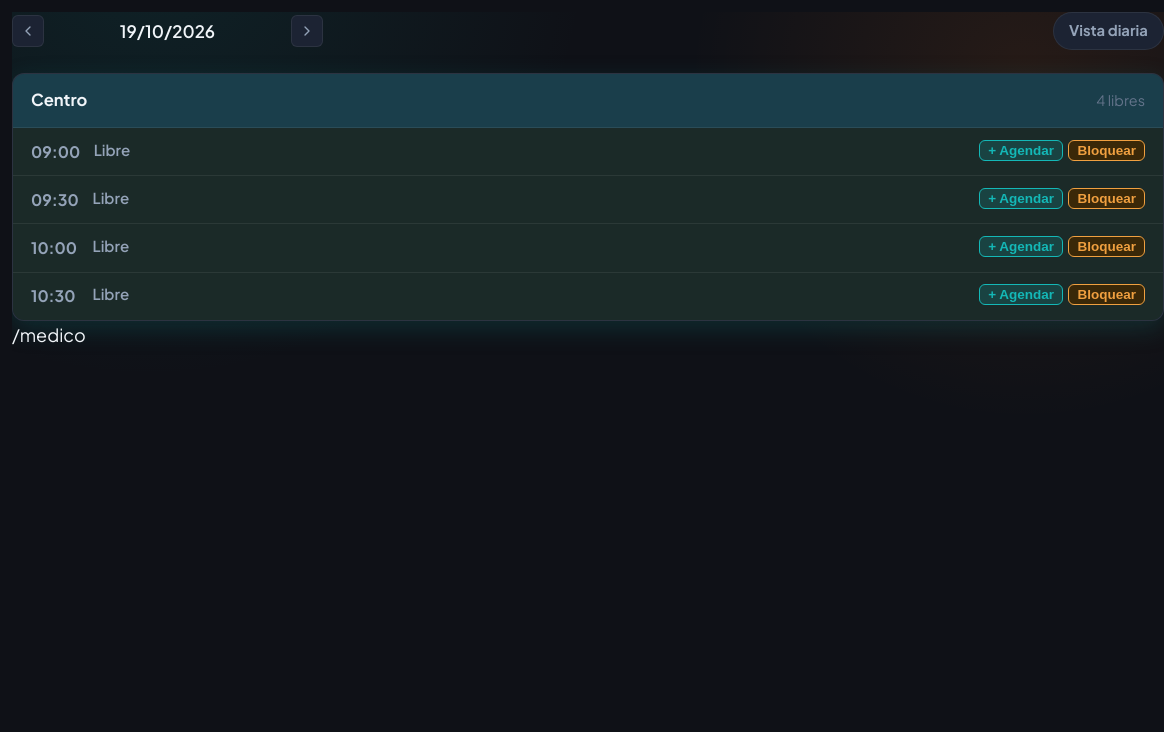
AgendaTab › agenda un turno buscando al paciente
The width and height of the screenshot is (1164, 732).
Expected: the text "Centro" is shown, [31,87,87,114]
Click the button "+ Agendar" in the row of "10:00": (1021,246) [979,236,1063,257]
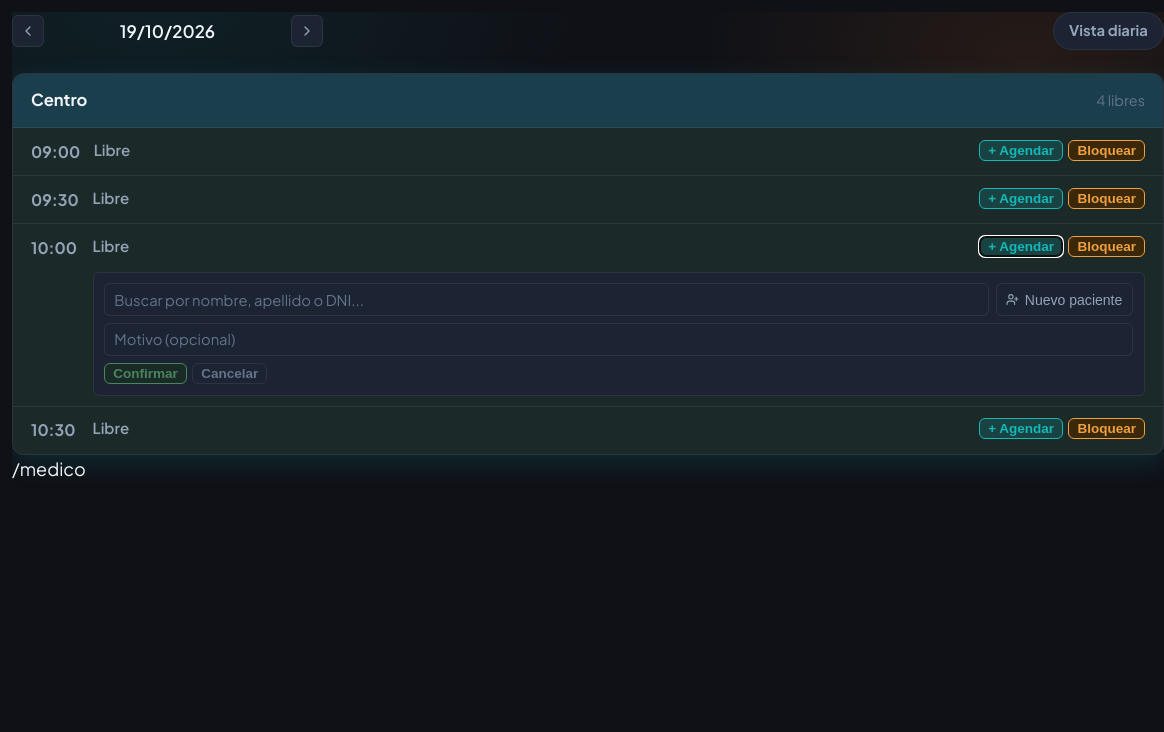
In the field with placeholder "Buscar por nombre, apellido o DNI...": (547,300) [104,283,989,316], type "3011"
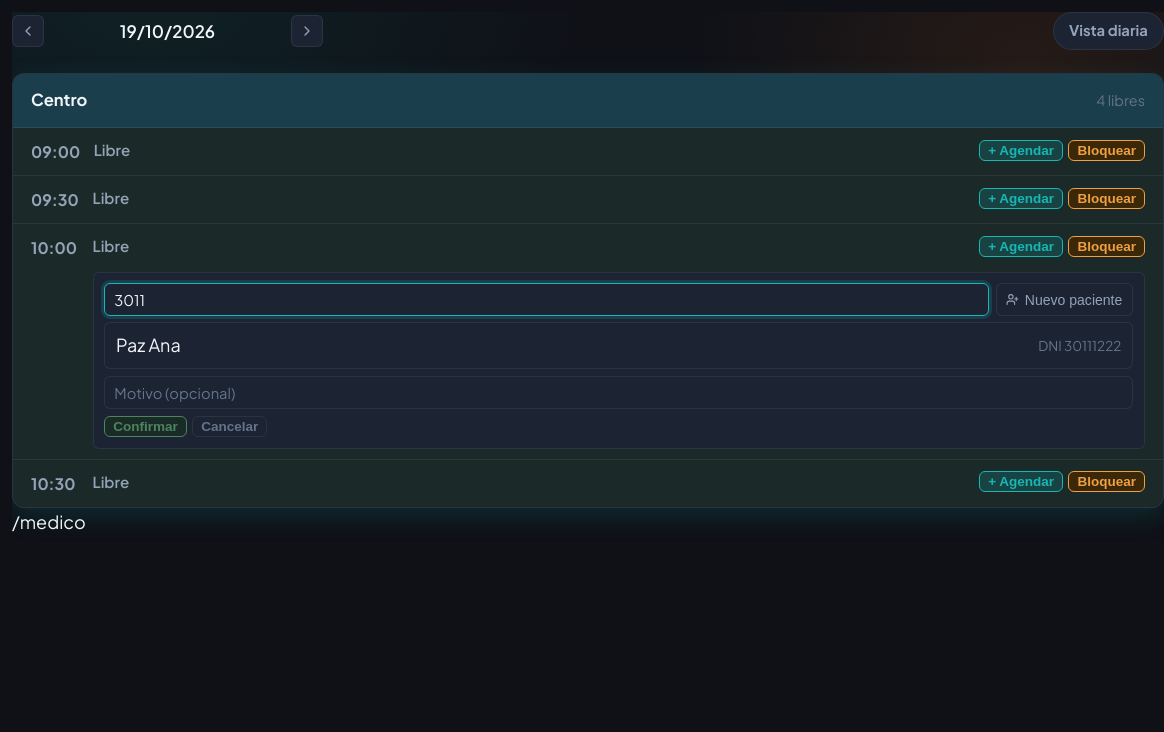
Click the button "Paz Ana DNI 30111222": (148,345) [105,323,1132,368]
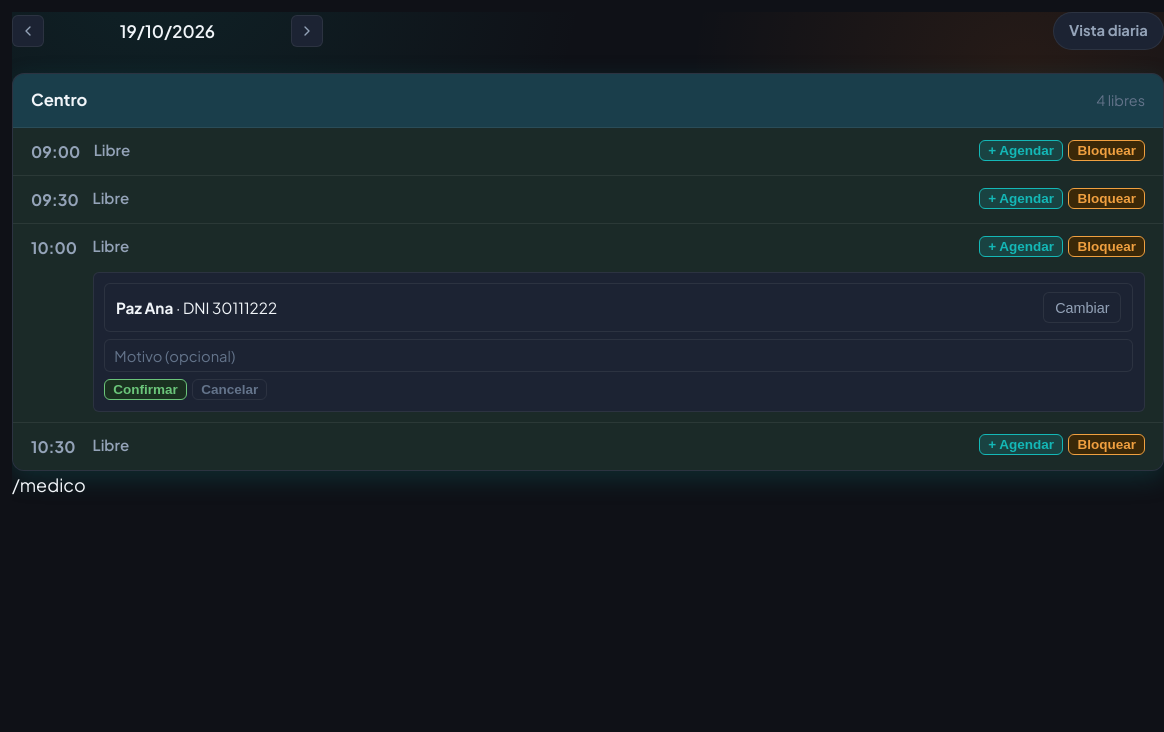
Now the text "Paz Ana" is shown, box [116,298,173,316]
In the field with placeholder "Motivo (opcional)": (619,356) [104,339,1133,372], type "Control"
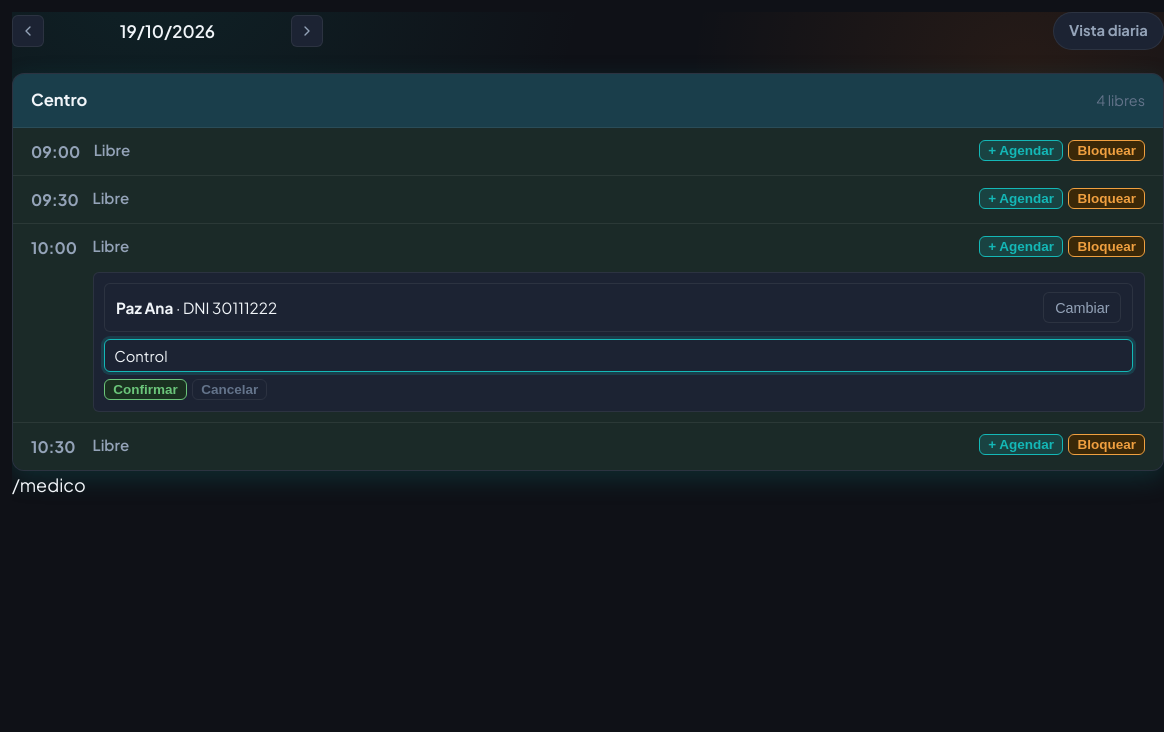
Click the button "Confirmar": (146,390) [104,379,187,400]
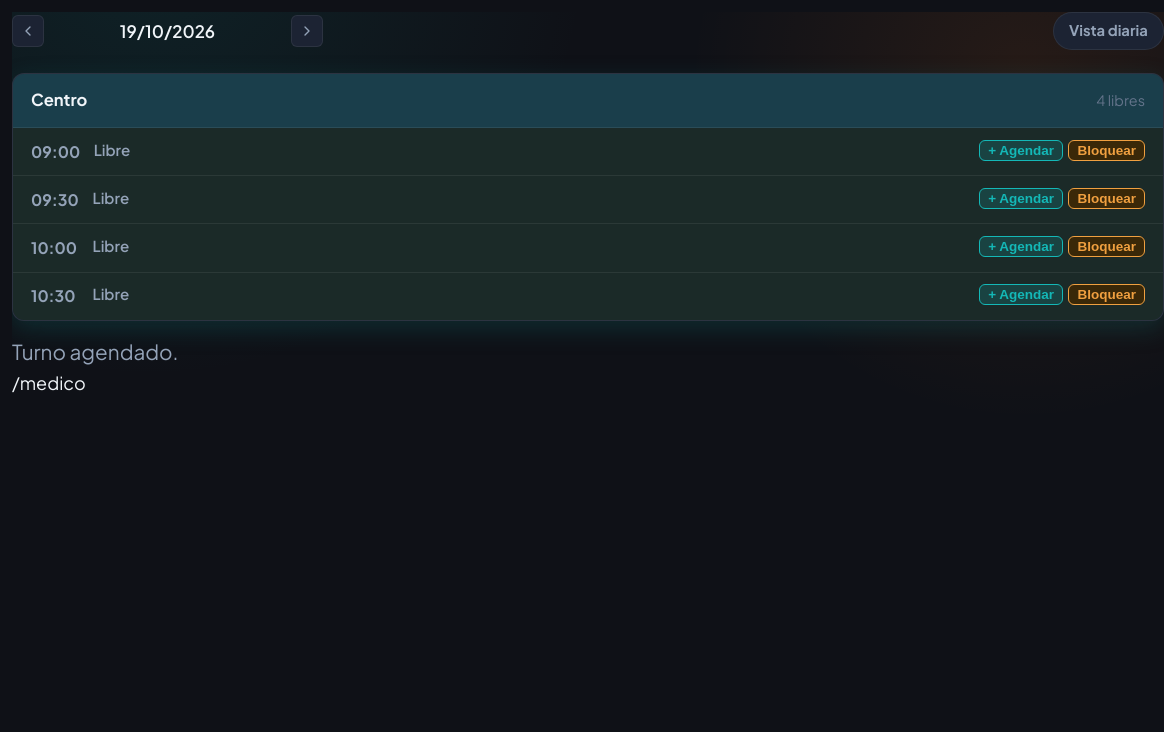
Now the text "Turno agendado." is shown, box [12,339,178,365]
